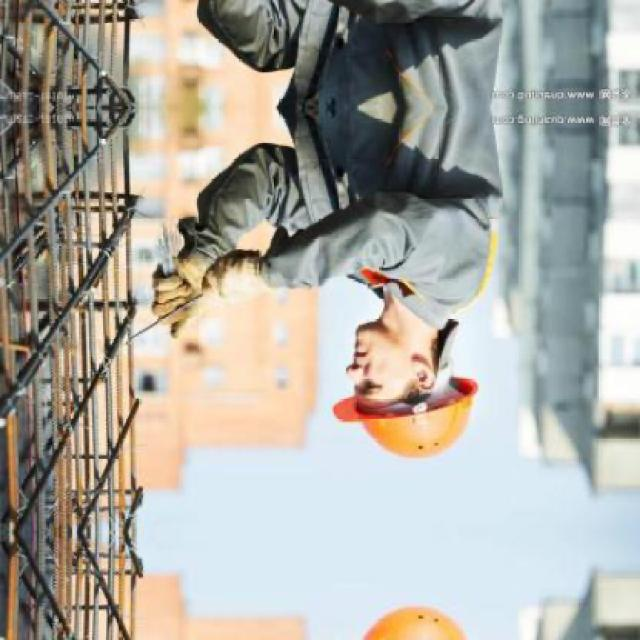con casco: (330, 195, 520, 470)
